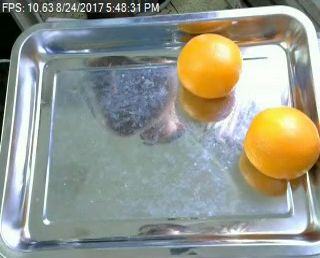Orange: (242, 106, 319, 179), (176, 33, 241, 99)
